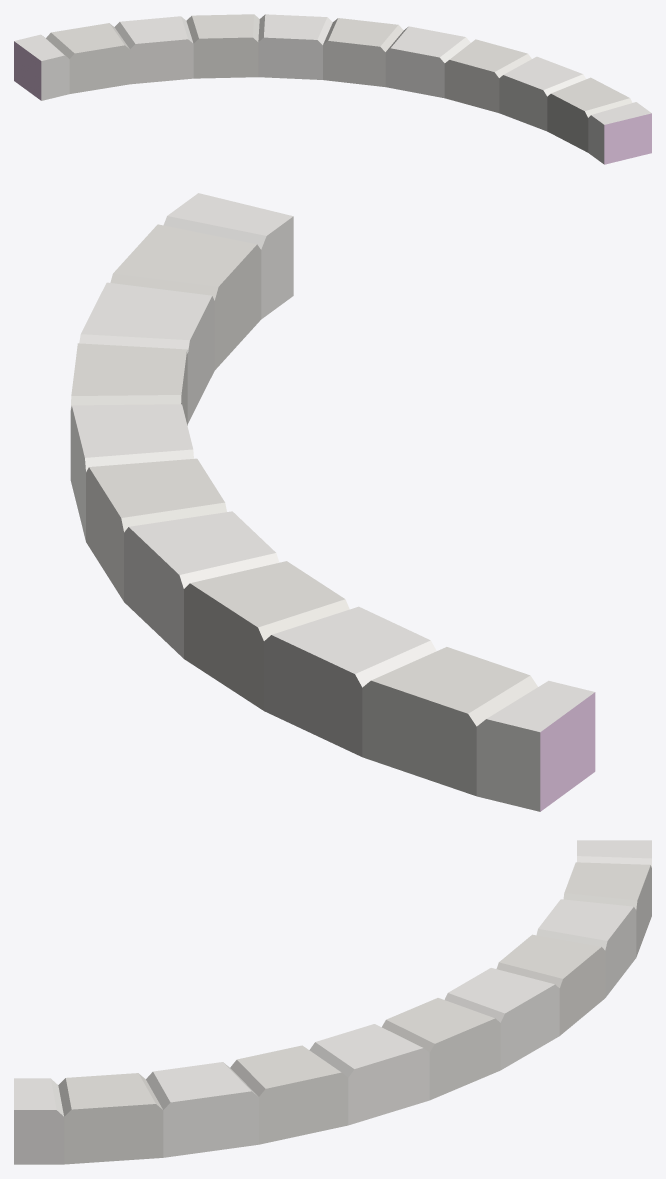
The model's file is Path_Edging_Stones_Curve_3x3.glb.
3 renders of one model, top to bottom at view 1: azimuth 30°, elevation 25°; view 2: azimuth 150°, elevation 25°; view 3: azimuth 270°, elevation 25°, orthographic. The views are drawn at different scales.
Parts seen in each view (by area): view 1: Path_Edging_Stones_Curve_3x3; view 2: Path_Edging_Stones_Curve_3x3; view 3: Path_Edging_Stones_Curve_3x3.
Part boxes in pixels (x1=…): Path_Edging_Stones_Curve_3x3: x1=14, y1=14, x2=651, y2=164; Path_Edging_Stones_Curve_3x3: x1=70, y1=193, x2=595, y2=811; Path_Edging_Stones_Curve_3x3: x1=14, y1=840, x2=651, y2=1164.
Bounding box in the file's own units: 266 × 25 × 266.
